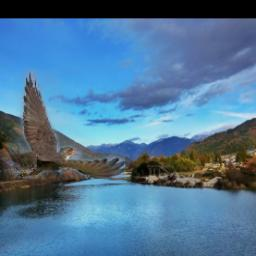Cuckoo: (0, 71, 125, 180)
